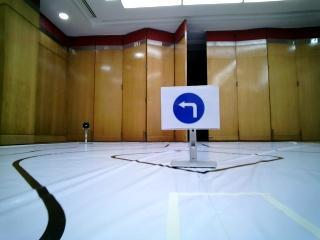left: (163, 89, 210, 124)
